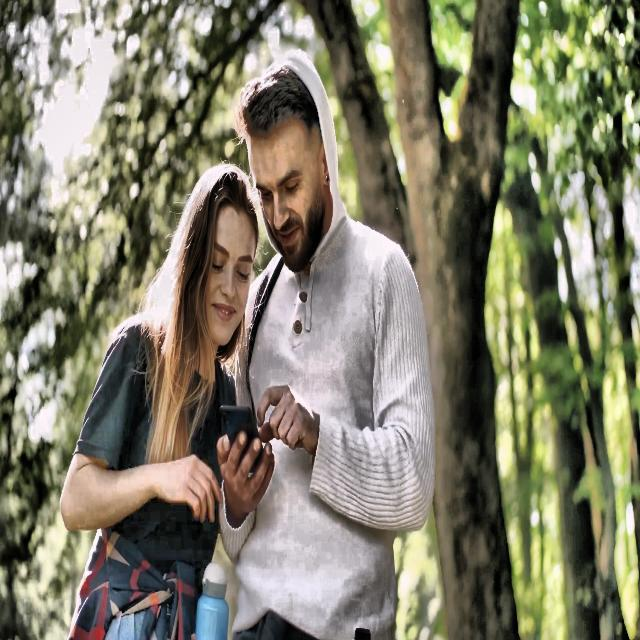Phone: (218, 400, 262, 464)
